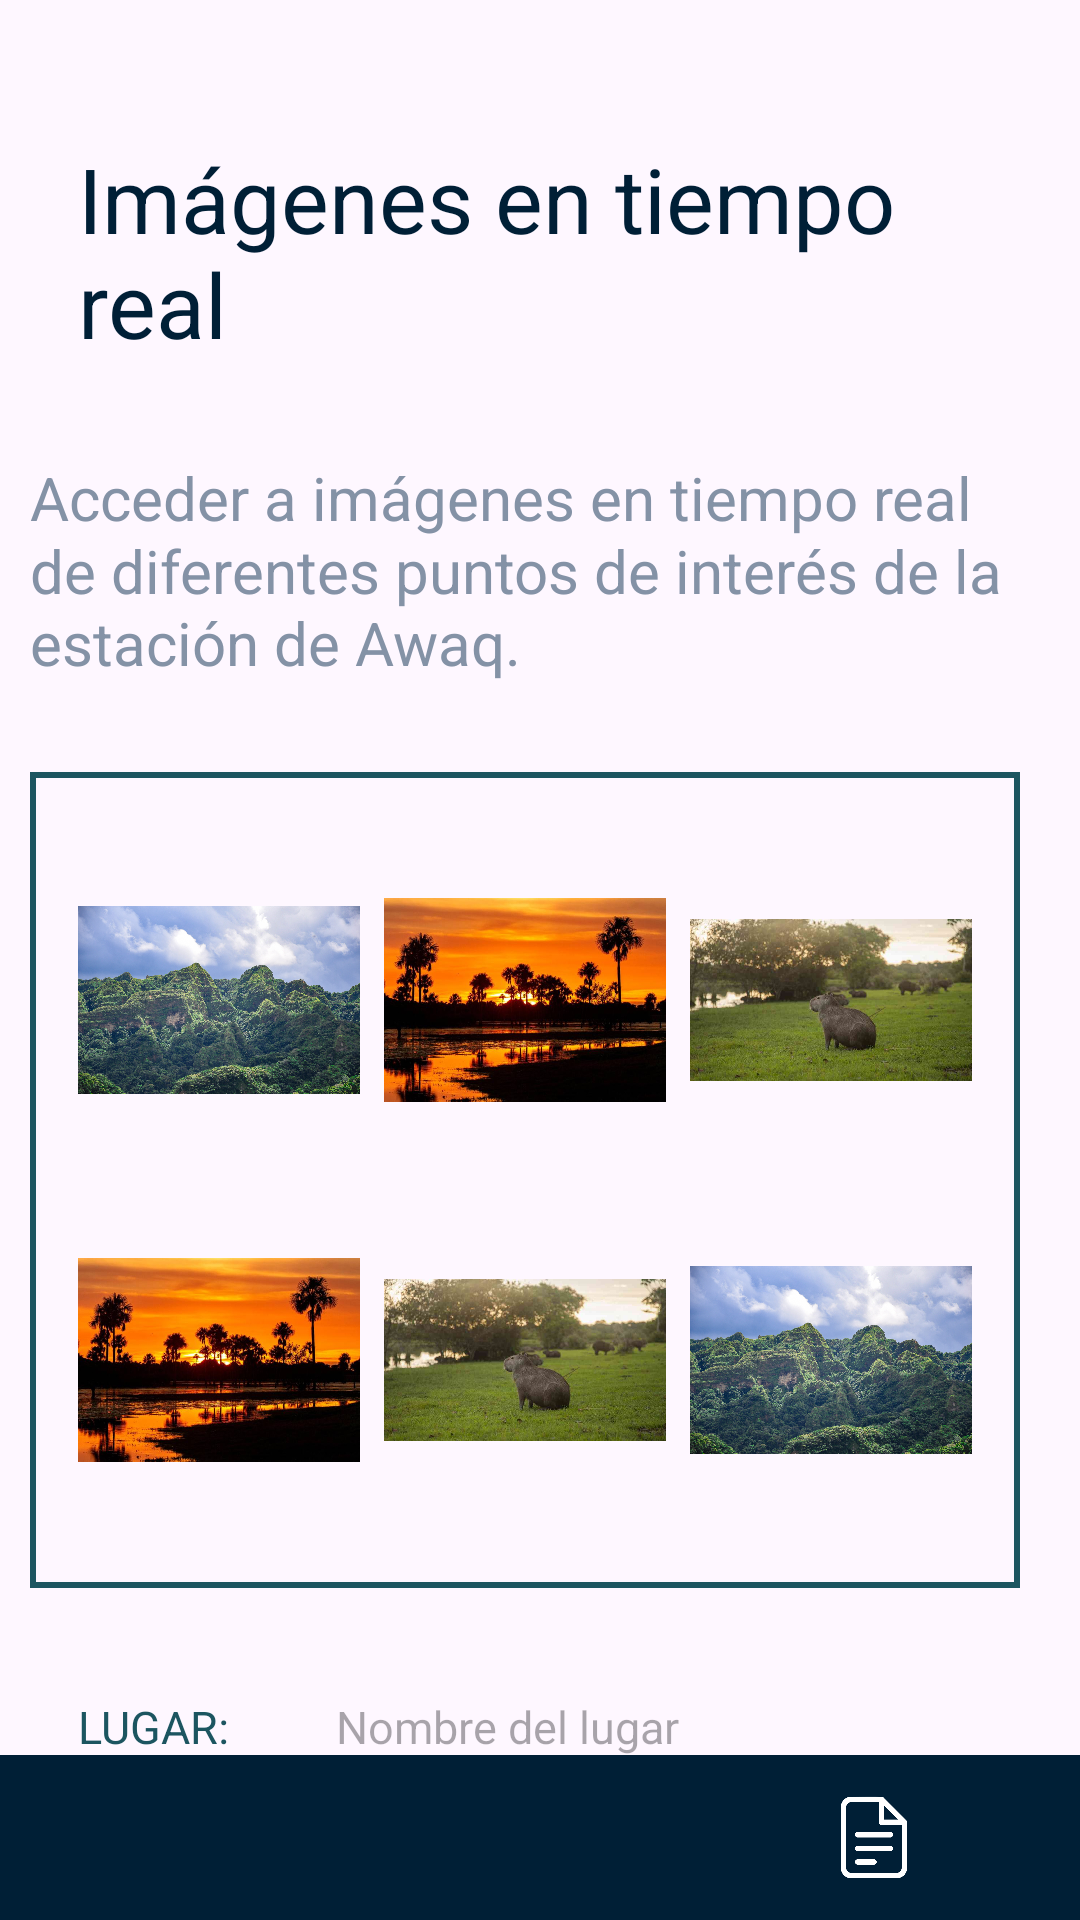

Point at icon controls on the screen. Image size 1080px x 1920px, points as (x,y).
paper: (874,1837)
